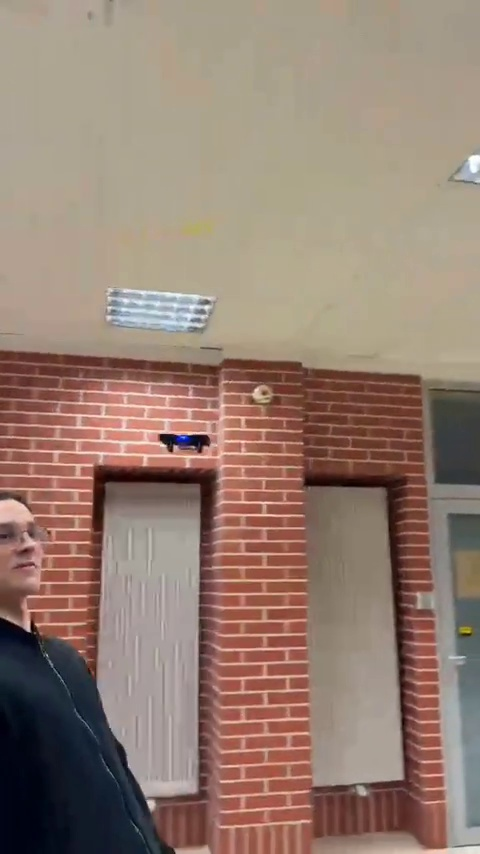drone: (156, 433, 212, 455)
no vest: (0, 488, 173, 852)
